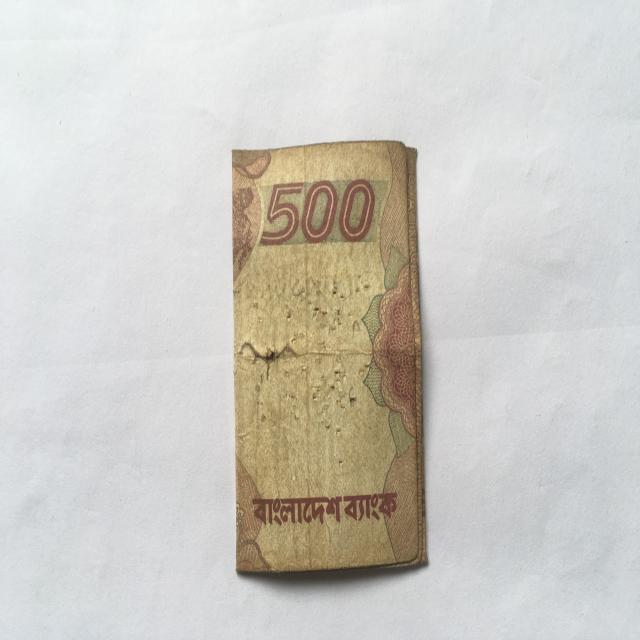Taka: (224, 138, 432, 572)
